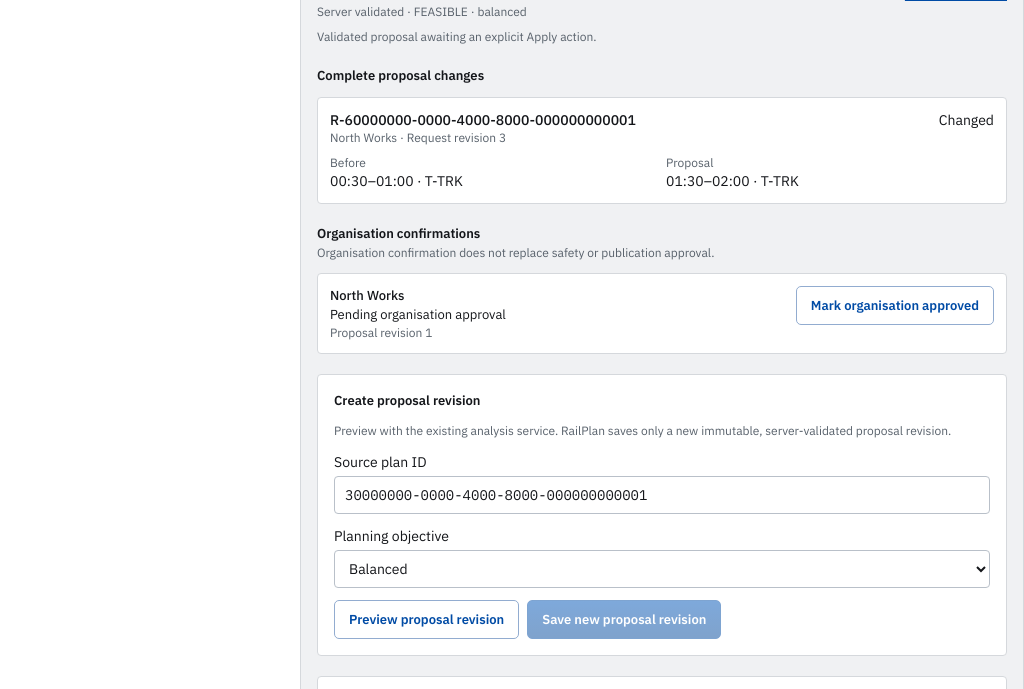
Scenario: planner coordination › keeps Apply enabled while confirmation is pending and opens the exact organisation approval dialog
The image size is (1024, 689).
(page scrolled)
Click the button "Mark organisation approved" at [895, 306], box [796, 286, 994, 325]
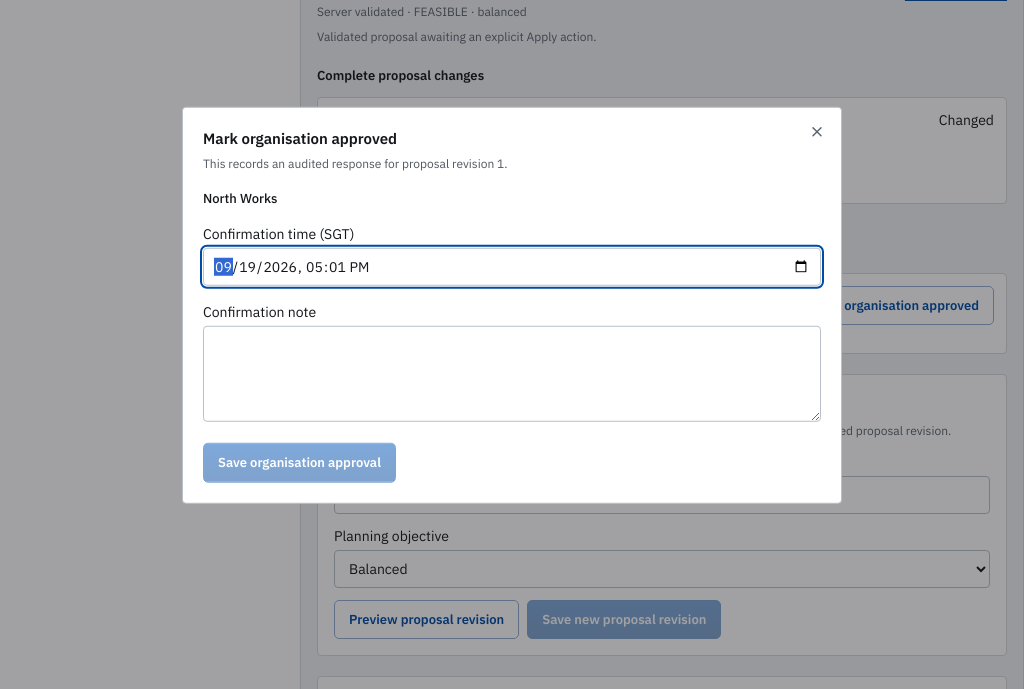
Expected: the text box labelled "Confirmation note" is shown, [203, 326, 821, 422]
Expected: the text "North Works" is shown, [203, 189, 278, 206]
